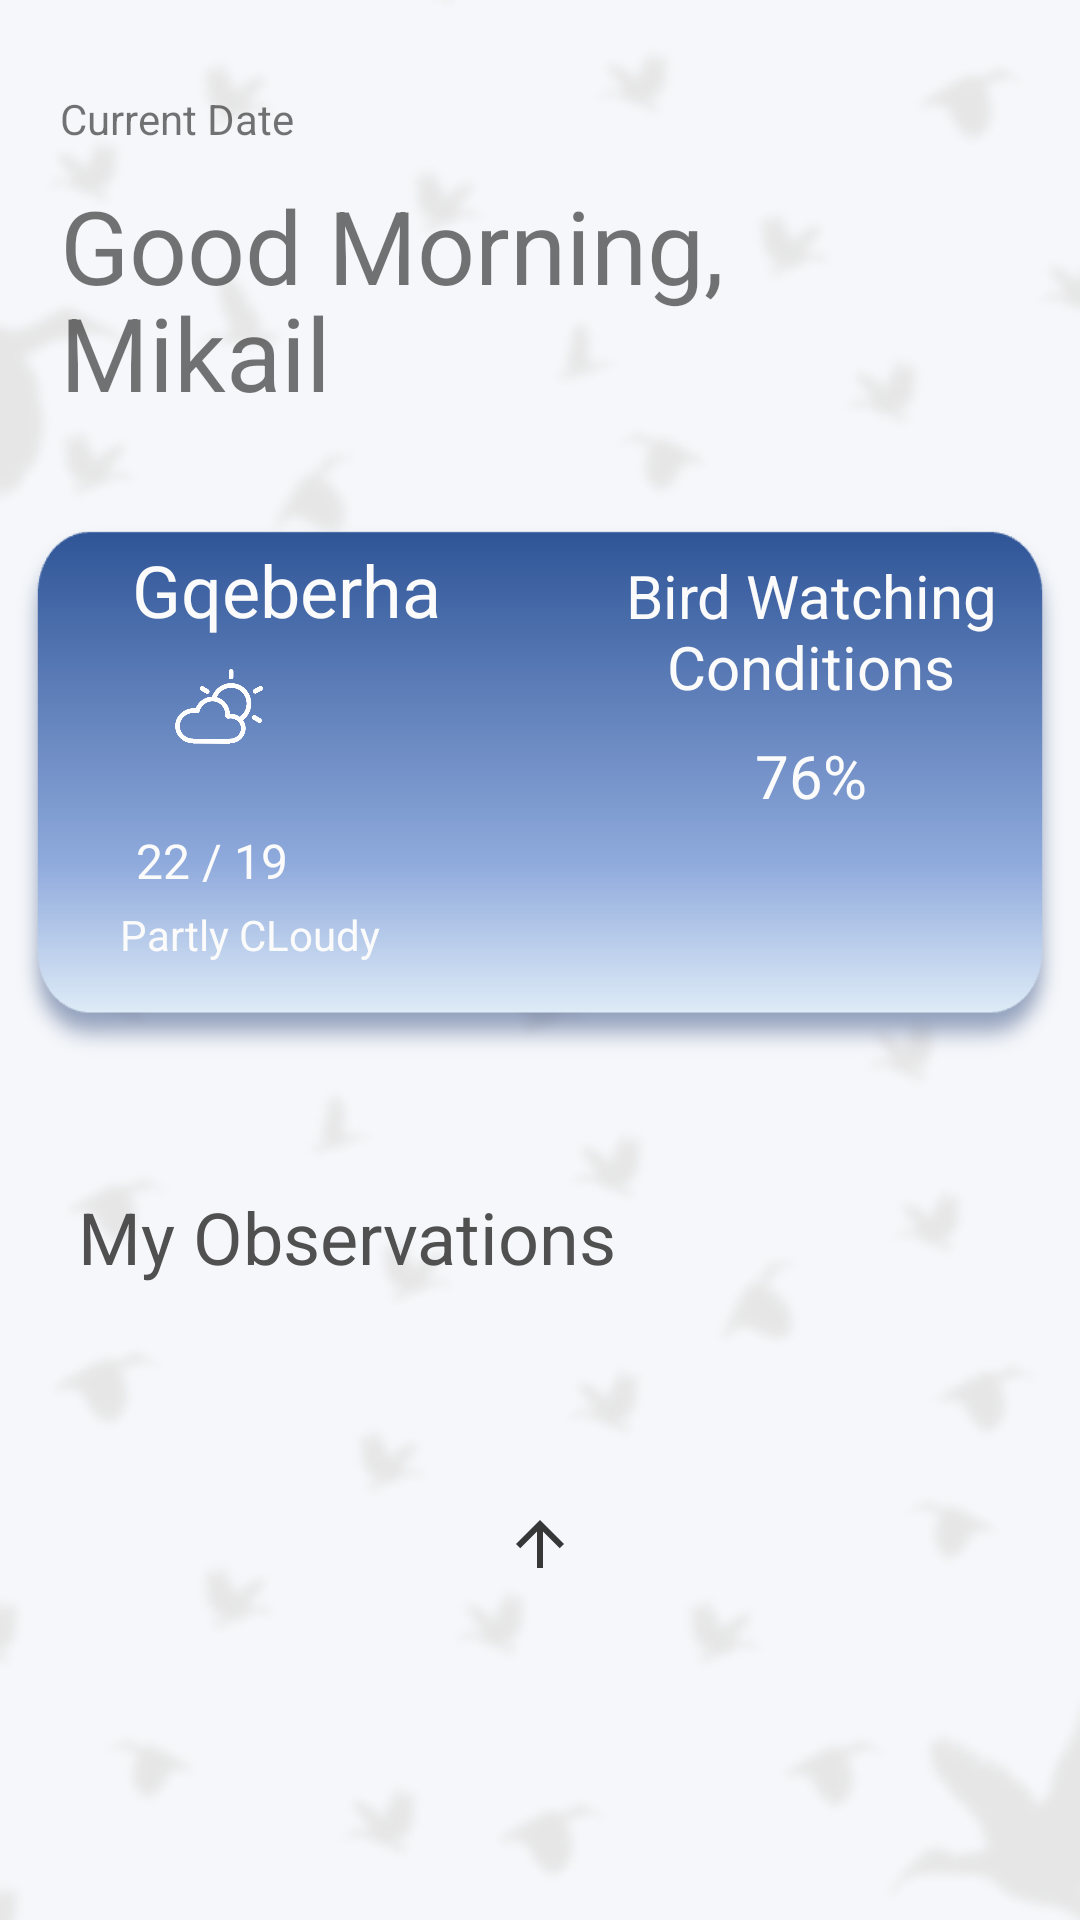

Named icons in this screenshot (1080w x 1920h) and their bounding boxes, bbox(x1, y1, x2, y2):
arrow upward: bbox(516, 1520, 564, 1568)
concloudy: bbox(175, 669, 263, 744)
